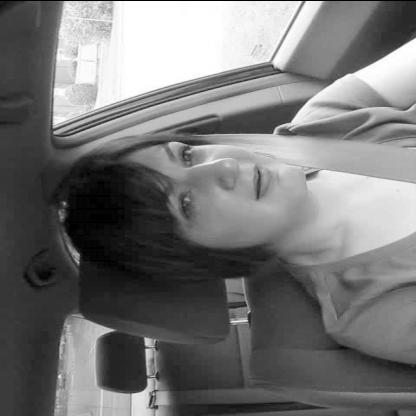seatbelt: (61, 128, 416, 299)
